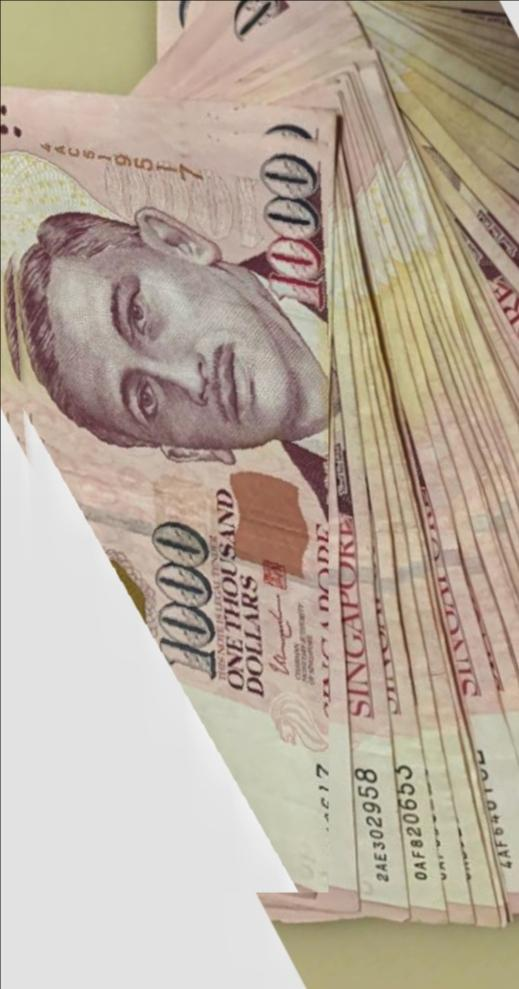1000SingaporeDollar: (0, 106, 328, 892)
